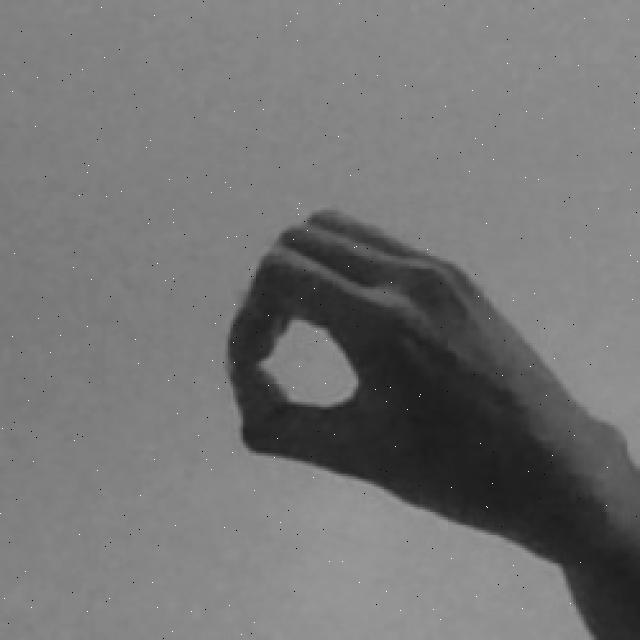O: (219, 199, 639, 640)
